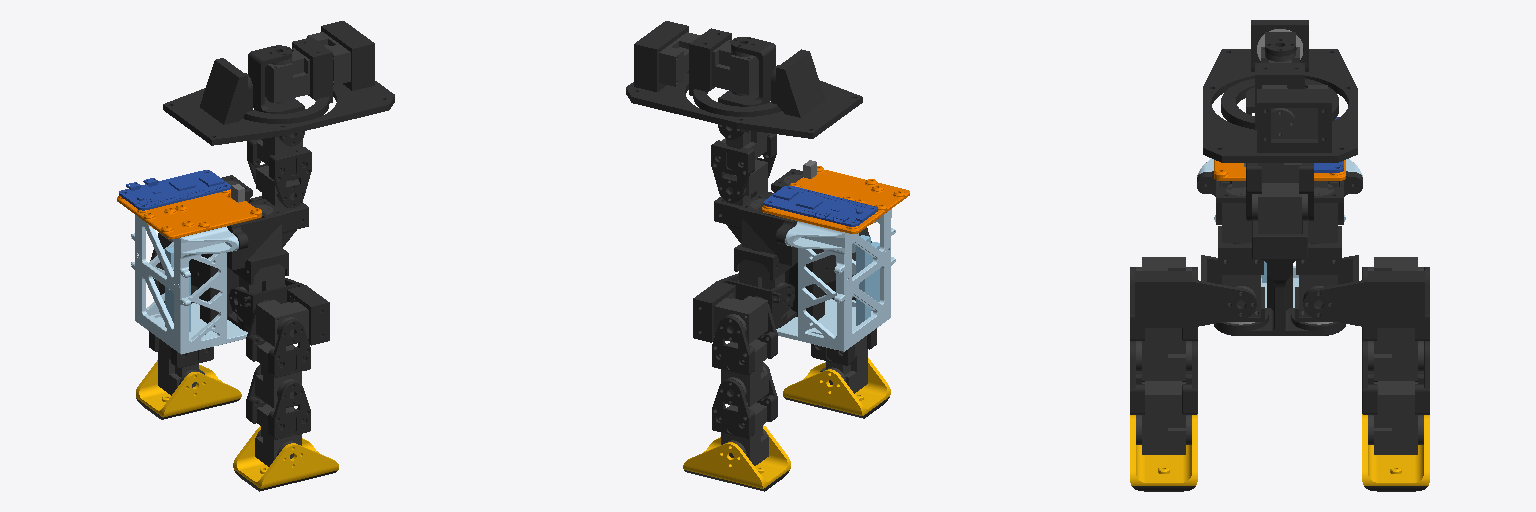
--- What the picture shows (computed from the rendered views, not written in the file) ---
3 views of the same robot in one strip: view 1: azimuth 30°, elevation 25°; view 2: azimuth 150°, elevation 25°; view 3: azimuth 270°, elevation 25° (orthographic).
Model microduck with 18 links and 17 joints (14 revolute, 3 fixed), rooted at trunk_base, posed all joints at 0.
Visible links, largest first — view 1: trunk_base, head_base_plate, head_yaw_to_roll, right_roll_to_pitch, xl330_2, xl330_3, foot_tpu_bottom, foot, leg_plate_3, head_pitch_to_yaw, leg_plate_2, xl330; view 2: trunk_base, head_base_plate, head_yaw_to_roll, left_roll_to_pitch, leg_plate, leg_plate_2, foot, foot_tpu_bottom, leg_plate_3, head_pitch_to_yaw, xl330_3, roll_motor_bottom; view 3: head_base_plate, trunk_base, left_roll_to_pitch, right_roll_to_pitch, leg_plate_2, xl330_3, leg_plate, xl330_2, foot, foot_tpu_bottom, head_yaw_to_roll, roll_motor_bottom (+3 smaller).
Boxes of the visible links, <box> form: trunk_base: <box>117,166,308,354</box>; head_base_plate: <box>163,21,394,145</box>; head_yaw_to_roll: <box>242,37,332,123</box>; right_roll_to_pitch: <box>229,278,329,346</box>; xl330_2: <box>246,300,310,408</box>; xl330_3: <box>246,364,310,466</box>; foot_tpu_bottom: <box>136,360,241,419</box>; foot: <box>233,426,338,491</box>; leg_plate_3: <box>247,110,311,207</box>; head_pitch_to_yaw: <box>248,45,304,146</box>; leg_plate_2: <box>149,331,213,395</box>; xl330: <box>232,248,288,310</box>; trunk_base: <box>714,159,909,351</box>; head_base_plate: <box>626,21,862,138</box>; head_yaw_to_roll: <box>689,28,781,116</box>; left_roll_to_pitch: <box>693,273,794,344</box>; leg_plate: <box>712,296,777,406</box>; leg_plate_2: <box>712,362,777,465</box>; foot: <box>783,358,890,418</box>; foot_tpu_bottom: <box>683,425,790,491</box>; leg_plate_3: <box>711,127,776,202</box>; head_pitch_to_yaw: <box>718,37,775,139</box>; xl330_3: <box>811,328,876,393</box>; roll_motor_bottom: <box>734,243,792,306</box>; head_base_plate: <box>1203,20,1357,162</box>; trunk_base: <box>1197,117,1362,335</box>; left_roll_to_pitch: <box>1303,255,1424,327</box>; right_roll_to_pitch: <box>1135,255,1256,327</box>; leg_plate_2: <box>1362,341,1429,454</box>; xl330_3: <box>1130,341,1197,454</box>; leg_plate: <box>1362,267,1429,380</box>; xl330_2: <box>1130,267,1197,380</box>; foot: <box>1130,414,1197,491</box>; foot_tpu_bottom: <box>1362,414,1429,491</box>; head_yaw_to_roll: <box>1221,47,1338,129</box>; roll_motor_bottom: <box>1295,226,1341,321</box>.
Size in the robot's own frame: 0.1621 by 0.1548 by 0.2565 metres.
Meshes: 26 distinct files referenced, 47 mesh visuals loaded (19 binary STL); not drawn: 9 (reference not matched to a file when rendering).

robot.urdf — microduck:
<?xml version="1.0" ?>
<!-- Generated using onshape-to-robot -->
<!-- Onshape https://cad.onshape.com/documents/804927696f06d877f3f1803e/w/3df6f6a8dcea50fb5658e3c0/e/eee1ab796d84f4ff324d3a02 -->
<robot name="microduck">
  <!-- Link trunk_base -->
  <link name="trunk_base">
    <inertial>
      <origin xyz="-0.010876 -0.000476206 0.0189092" rpy="0 0 0"/>
      <mass value="0.307054"/>
      <inertia ixx="0.000306438" ixy="-1.68276e-06" ixz="-1.79498e-05" iyy="0.000406337" iyz="-1.57212e-07" izz="0.000265753"/>
    </inertial>
    <!-- Part ubec_8v_5v_dc_dc -->
    <visual>
      <origin xyz="-0.0418856 -0.0130219 0.00180235" rpy="-4.44089e-16 -1.5708 0"/>
      <geometry>
        <mesh filename="package://assets/ubec_8v_5v_dc_dc.stl"/>
      </geometry>
      <material name="ubec_8v_5v_dc_dc_material">
        <color rgba="0.615686 0.811765 0.929412 1"/>
      </material>
    </visual>
    <collision>
      <origin xyz="-0.0418856 -0.0130219 0.00180235" rpy="-4.44089e-16 -1.5708 0"/>
      <geometry>
        <mesh filename="package://assets/ubec_8v_5v_dc_dc.stl"/>
      </geometry>
    </collision>
    <!-- Part cell -->
    <visual>
      <origin xyz="-0.0263856 0.008 -0.0211976" rpy="5.44703e-16 2.34088e-16 -8.88178e-16"/>
      <geometry>
        <mesh filename="package://assets/cell.stl"/>
      </geometry>
      <material name="cell_material">
        <color rgba="0.615686 0.811765 0.929412 1"/>
      </material>
    </visual>
    <collision>
      <origin xyz="-0.0263856 0.008 -0.0211976" rpy="5.44703e-16 2.34088e-16 -8.88178e-16"/>
      <geometry>
        <mesh filename="package://assets/cell.stl"/>
      </geometry>
    </collision>
    <!-- Part xl330 -->
    <visual>
      <origin xyz="0.0125644 -0.02 0.0368" rpy="-3.14159 -1.5708 0"/>
      <geometry>
        <mesh filename="package://assets/xl330.stl"/>
      </geometry>
      <material name="xl330_material">
        <color rgba="0.286275 0.286275 0.286275 1"/>
      </material>
    </visual>
    <collision>
      <origin xyz="0.0125644 -0.02 0.0368" rpy="-3.14159 -1.5708 0"/>
      <geometry>
        <mesh filename="package://assets/xl330.stl"/>
      </geometry>
    </collision>
    <!-- Part bms -->
    <visual>
      <origin xyz="-0.0388856 0.0610972 -0.0168297" rpy="-4.44089e-16 -1.5708 0"/>
      <geometry>
        <mesh filename="package://assets/bms.stl"/>
      </geometry>
      <material name="bms_material">
        <color rgba="0.231373 0.380392 0.705882 1"/>
      </material>
    </visual>
    <collision>
      <origin xyz="-0.0388856 0.0610972 -0.0168297" rpy="-4.44089e-16 -1.5708 0"/>
      <geometry>
        <mesh filename="package://assets/bms.stl"/>
      </geometry>
    </collision>
    <!-- Part usb_c_charger -->
    <visual>
      <origin xyz="-0.0288856 0.0185 -0.00945" rpy="-1.5708 1.5708 0"/>
      <geometry>
        <mesh filename="package://assets/usb_c_charger.stl"/>
      </geometry>
      <material name="usb_c_charger_material">
        <color rgba="0.615686 0.811765 0.929412 1"/>
      </material>
    </visual>
    <collision>
      <origin xyz="-0.0288856 0.0185 -0.00945" rpy="-1.5708 1.5708 0"/>
      <geometry>
        <mesh filename="package://assets/usb_c_charger.stl"/>
      </geometry>
    </collision>
    <!-- Part bearing -->
    <visual>
      <origin xyz="0.0125644 -0.04 0.0367" rpy="0 -0 4.15816e-112"/>
      <geometry>
        <mesh filename="package://assets/bearing.stl"/>
      </geometry>
      <material name="bearing_material">
        <color rgba="0.701961 0.701961 0.701961 1"/>
      </material>
    </visual>
    <collision>
      <origin xyz="0.0125644 -0.04 0.0367" rpy="0 -0 4.15816e-112"/>
      <geometry>
        <mesh filename="package://assets/bearing.stl"/>
      </geometry>
    </collision>
    <!-- Part trunk_yaw -->
    <visual>
      <origin xyz="0.0125644 4.61201e-19 0.0367" rpy="-1.13753e-89 1.99394e-16 5.70496e-74"/>
      <geometry>
        <mesh filename="package://assets/trunk_yaw.stl"/>
      </geometry>
      <material name="trunk_yaw_material">
        <color rgba="0.235294 0.235294 0.235294 1"/>
      </material>
    </visual>
    <collision>
      <origin xyz="0.0125644 4.61201e-19 0.0367" rpy="-1.13753e-89 1.99394e-16 5.70496e-74"/>
      <geometry>
        <mesh filename="package://assets/trunk_yaw.stl"/>
      </geometry>
    </collision>
    <!-- Part jumper -->
    <visual>
      <origin xyz="0.205953 0.0299255 0.0593" rpy="4.10208e-28 -1.35419e-55 6.0762e-28"/>
      <geometry>
        <mesh filename="package://assets/jumper.stl"/>
      </geometry>
      <material name="jumper_material">
        <color rgba="0.498039 0.498039 0.498039 1"/>
      </material>
    </visual>
    <collision>
      <origin xyz="0.205953 0.0299255 0.0593" rpy="4.10208e-28 -1.35419e-55 6.0762e-28"/>
      <geometry>
        <mesh filename="package://assets/jumper.stl"/>
      </geometry>
    </collision>
    <!-- Part holder -->
    <visual>
      <origin xyz="-0.0388856 -0.0655245 0.0107439" rpy="1.92552e-26 1.5708 0"/>
      <geometry>
        <mesh filename="package://assets/holder.stl"/>
      </geometry>
      <material name="holder_material">
        <color rgba="0.647059 0.647059 0.647059 1"/>
      </material>
    </visual>
    <collision>
      <origin xyz="-0.0388856 -0.0655245 0.0107439" rpy="1.92552e-26 1.5708 0"/>
      <geometry>
        <mesh filename="package://assets/holder.stl"/>
      </geometry>
    </collision>
    <!-- Part bno055 -->
    <visual>
      <origin xyz="-0.0486356 -0.0135 0.0607" rpy="-3.14159 2.80964e-17 3.14159"/>
      <geometry>
        <mesh filename="package://assets/bno055.stl"/>
      </geometry>
      <material name="bno055_material">
        <color rgba="0.615686 0.811765 0.929412 1"/>
      </material>
    </visual>
    <collision>
      <origin xyz="-0.0486356 -0.0135 0.0607" rpy="-3.14159 2.80964e-17 3.14159"/>
      <geometry>
        <mesh filename="package://assets/bno055.stl"/>
      </geometry>
    </collision>
    <!-- Part xl330_2 -->
    <visual>
      <origin xyz="0.0125644 0.02 0.0368" rpy="3.14159 -1.5708 0"/>
      <geometry>
        <mesh filename="package://assets/xl330.stl"/>
      </geometry>
      <material name="xl330_2_material">
        <color rgba="0.286275 0.286275 0.286275 1"/>
      </material>
    </visual>
    <collision>
      <origin xyz="0.0125644 0.02 0.0368" rpy="3.14159 -1.5708 0"/>
      <geometry>
        <mesh filename="package://assets/xl330.stl"/>
      </geometry>
    </collision>
    <!-- Part xl330_3 -->
    <visual>
      <origin xyz="0.0375644 0.0001 0.0537" rpy="1.21169e-27 -5.02818e-16 1.5708"/>
      <geometry>
        <mesh filename="package://assets/xl330.stl"/>
      </geometry>
      <material name="xl330_3_material">
        <color rgba="0.286275 0.286275 0.286275 1"/>
      </material>
    </visual>
    <collision>
      <origin xyz="0.0375644 0.0001 0.0537" rpy="1.21169e-27 -5.02818e-16 1.5708"/>
      <geometry>
        <mesh filename="package://assets/xl330.stl"/>
      </geometry>
    </collision>
    <!-- Part raspberrypizerow -->
    <visual>
      <origin xyz="-0.0261106 0.017975 0.0577" rpy="1.5708 -3.46945e-17 3.14159"/>
      <geometry>
        <mesh filename="package://assets/raspberrypizerow.stl"/>
      </geometry>
      <material name="raspberrypizerow_material">
        <color rgba="0.231373 0.380392 0.705882 1"/>
      </material>
    </visual>
    <collision>
      <origin xyz="-0.0261106 0.017975 0.0577" rpy="1.5708 -3.46945e-17 3.14159"/>
      <geometry>
        <mesh filename="package://assets/raspberrypizerow.stl"/>
      </geometry>
    </collision>
    <!-- Part bearing_2 -->
    <visual>
      <origin xyz="0.0125644 -1.56125e-17 0.0367" rpy="0 -0 4.15816e-112"/>
      <geometry>
        <mesh filename="package://assets/bearing.stl"/>
      </geometry>
      <material name="bearing_2_material">
        <color rgba="0.701961 0.701961 0.701961 1"/>
      </material>
    </visual>
    <collision>
      <origin xyz="0.0125644 -1.56125e-17 0.0367" rpy="0 -0 4.15816e-112"/>
      <geometry>
        <mesh filename="package://assets/bearing.stl"/>
      </geometry>
    </collision>
    <!-- Part board -->
    <visual>
      <origin xyz="-0.0356476 -0.033 0.0593" rpy="0 -0 -4.61649e-128"/>
      <geometry>
        <mesh filename="package://assets/board.stl"/>
      </geometry>
      <material name="board_material">
        <color rgba="0 0.501961 0 1"/>
      </material>
    </visual>
    <collision>
      <origin xyz="-0.0356476 -0.033 0.0593" rpy="0 -0 -4.61649e-128"/>
      <geometry>
        <mesh filename="package://assets/board.stl"/>
      </geometry>
    </collision>
    <!-- Part uc_boards -->
    <visual>
      <origin xyz="0.0125644 -4.31763e-18 0.0367" rpy="-7.63775e-17 1.52081e-17 -5.55112e-17"/>
      <geometry>
        <mesh filename="package://assets/uc_boards.stl"/>
      </geometry>
      <material name="uc_boards_material">
        <color rgba="0.972549 0.529412 0.00392157 1"/>
      </material>
    </visual>
    <collision>
      <origin xyz="0.0125644 -4.31763e-18 0.0367" rpy="-7.63775e-17 1.52081e-17 -5.55112e-17"/>
      <geometry>
        <mesh filename="package://assets/uc_boards.stl"/>
      </geometry>
    </collision>
    <!-- Part trunk_base -->
    <visual>
      <origin xyz="0.0125644 6.78041e-19 0.0367" rpy="0 1.99394e-16 -3.45852e-85"/>
      <geometry>
        <mesh filename="package://assets/trunk_base.stl"/>
      </geometry>
      <material name="trunk_base_material">
        <color rgba="0.235294 0.235294 0.235294 1"/>
      </material>
    </visual>
    <collision>
      <origin xyz="0.0125644 6.78041e-19 0.0367" rpy="0 1.99394e-16 -3.45852e-85"/>
      <geometry>
        <mesh filename="package://assets/trunk_base.stl"/>
      </geometry>
    </collision>
    <!-- Part power_switch -->
    <visual>
      <origin xyz="-0.0423556 0.0318 0.016765" rpy="1.48663e-28 -1.5708 0"/>
      <geometry>
        <mesh filename="package://assets/power_switch.stl"/>
      </geometry>
      <material name="power_switch_material">
        <color rgba="0.901961 0.901961 0.901961 1"/>
      </material>
    </visual>
    <collision>
      <origin xyz="-0.0423556 0.0318 0.016765" rpy="1.48663e-28 -1.5708 0"/>
      <geometry>
        <mesh filename="package://assets/power_switch.stl"/>
      </geometry>
    </collision>
    <!-- Part cell_2 -->
    <visual>
      <origin xyz="-0.0263856 -0.012 -0.0211976" rpy="1.5335e-15 -2.86329e-16 -8.88178e-16"/>
      <geometry>
        <mesh filename="package://assets/cell.stl"/>
      </geometry>
      <material name="cell_2_material">
        <color rgba="0.615686 0.811765 0.929412 1"/>
      </material>
    </visual>
    <collision>
      <origin xyz="-0.0263856 -0.012 -0.0211976" rpy="1.5335e-15 -2.86329e-16 -8.88178e-16"/>
      <geometry>
        <mesh filename="package://assets/cell.stl"/>
      </geometry>
    </collision>
    <!-- Part power_switch_2 -->
    <visual>
      <origin xyz="-0.0423556 -0.0318 0.016765" rpy="4.4599e-28 -1.5708 0"/>
      <geometry>
        <mesh filename="package://assets/power_switch.stl"/>
      </geometry>
      <material name="power_switch_2_material">
        <color rgba="0.901961 0.901961 0.901961 1"/>
      </material>
    </visual>
    <collision>
      <origin xyz="-0.0423556 -0.0318 0.016765" rpy="4.4599e-28 -1.5708 0"/>
      <geometry>
        <mesh filename="package://assets/power_switch.stl"/>
      </geometry>
    </collision>
    <!-- Part uc -->
    <visual>
      <origin xyz="0.0125644 1.2446e-60 0.0367" rpy="7.96546e-59 1.99394e-16 -8.12568e-60"/>
      <geometry>
        <mesh filename="package://assets/uc.stl"/>
      </geometry>
      <material name="uc_material">
        <color rgba="0.768627 0.886275 0.952941 1"/>
      </material>
    </visual>
    <collision>
      <origin xyz="0.0125644 1.2446e-60 0.0367" rpy="7.96546e-59 1.99394e-16 -8.12568e-60"/>
      <geometry>
        <mesh filename="package://assets/uc.stl"/>
      </geometry>
    </collision>
  </link>
  <!-- Frame imu (dummy link + fixed joint) -->
  <link name="imu">
    <origin xyz="0 0 0" rpy="0 -0 0"/>
    <inertial>
      <origin xyz="0 0 0" rpy="0 0 0"/>
      <mass value="1e-9"/>
      <inertia ixx="0" ixy="0" ixz="0" iyy="0" iyz="0" izz="0"/>
    </inertial>
  </link>
  <joint name="imu_frame" type="fixed">
    <origin xyz="-0.0488583 -0.0135 0.0607" rpy="-1.16509e-17 -2.80964e-17 -1.66533e-16"/>
    <parent link="trunk_base"/>
    <child link="imu"/>
    <axis xyz="0 0 0"/>
  </joint>
  <!-- Link roll_motor_bottom -->
  <link name="roll_motor_bottom">
    <inertial>
      <origin xyz="1.62605e-18 -0.000237525 0.0207938" rpy="0 0 0"/>
      <mass value="0.0252944"/>
      <inertia ixx="5.67885e-06" ixy="2.32015e-21" ixz="-1.19687e-21" iyy="5.1295e-06" iyz="-2.1555e-08" izz="2.4759e-06"/>
    </inertial>
    <!-- Part roll_motor_bottom -->
    <visual>
      <origin xyz="0.02 -5e-05 -0.0146" rpy="-3.14159 5.55001e-15 -1.5708"/>
      <geometry>
        <mesh filename="package://assets/roll_motor_bottom.stl"/>
      </geometry>
      <material name="roll_motor_bottom_material">
        <color rgba="0.235294 0.235294 0.235294 1"/>
      </material>
    </visual>
    <collision>
      <origin xyz="0.02 -5e-05 -0.0146" rpy="-3.14159 5.55001e-15 -1.5708"/>
      <geometry>
        <mesh filename="package://assets/roll_motor_bottom.stl"/>
      </geometry>
    </collision>
    <!-- Part roll_motor_top -->
    <visual>
      <origin xyz="0.02 3.46945e-18 -0.0146" rpy="-3.14159 5.36931e-15 -1.5708"/>
      <geometry>
        <mesh filename="package://assets/roll_motor_top.stl"/>
      </geometry>
      <material name="roll_motor_top_material">
        <color rgba="0.235294 0.235294 0.235294 1"/>
      </material>
    </visual>
    <collision>
      <origin xyz="0.02 3.46945e-18 -0.0146" rpy="-3.14159 5.36931e-15 -1.5708"/>
      <geometry>
        <mesh filename="package://assets/roll_motor_top.stl"/>
      </geometry>
    </collision>
    <!-- Part xl330_4 -->
    <visual>
      <origin xyz="1.04083e-17 -5e-05 0.0286" rpy="-4.75925e-17 -5.55001e-15 1.5708"/>
      <geometry>
        <mesh filename="package://assets/xl330.stl"/>
      </geometry>
      <material name="xl330_4_material">
        <color rgba="0.286275 0.286275 0.286275 1"/>
      </material>
    </visual>
    <collision>
      <origin xyz="1.04083e-17 -5e-05 0.0286" rpy="-4.75925e-17 -5.55001e-15 1.5708"/>
      <geometry>
        <mesh filename="package://assets/xl330.stl"/>
      </geometry>
    </collision>
  </link>
  <!-- Link left_roll_to_pitch -->
  <link name="left_roll_to_pitch">
    <inertial>
      <origin xyz="0.034947 0.00019824 -0.0134625" rpy="0 0 0"/>
      <mass value="0.0304845"/>
      <inertia ixx="5.39431e-06" ixy="9.64608e-08" ixz="-4.86513e-08" iyy="9.58888e-06" iyz="2.08504e-08" izz="6.71172e-06"/>
    </inertial>
    <!-- Part left_roll_to_pitch -->
    <visual>
      <origin xyz="-0.02 0.0432 -0.0145" rpy="-1.5708 -1.5708 0"/>
      <geometry>
        <mesh filename="package://assets/left_roll_to_pitch.stl"/>
      </geometry>
      <material name="left_roll_to_pitch_material">
        <color rgba="0.235294 0.235294 0.235294 1"/>
      </material>
    </visual>
    <collision>
      <origin xyz="-0.02 0.0432 -0.0145" rpy="-1.5708 -1.5708 0"/>
      <geometry>
        <mesh filename="package://assets/left_roll_to_pitch.stl"/>
      </geometry>
    </collision>
    <!-- Part xl330_5 -->
    <visual>
      <origin xyz="0.0399 5.9848e-17 -0.0245" rpy="-3.14159 2.05391e-15 -3.14159"/>
      <geometry>
        <mesh filename="package://assets/xl330.stl"/>
      </geometry>
      <material name="xl330_5_material">
        <color rgba="0.286275 0.286275 0.286275 1"/>
      </material>
    </visual>
    <collision>
      <origin xyz="0.0399 5.9848e-17 -0.0245" rpy="-3.14159 2.05391e-15 -3.14159"/>
      <geometry>
        <mesh filename="package://assets/xl330.stl"/>
      </geometry>
    </collision>
  </link>
  <!-- Link leg_plate -->
  <link name="leg_plate">
    <inertial>
      <origin xyz="-0.0295379 1.19013e-17 -0.0142534" rpy="0 0 0"/>
      <mass value="0.0249189"/>
      <inertia ixx="3.47009e-06" ixy="-5.59182e-21" ixz="2.12715e-08" iyy="6.80444e-06" iyz="-1.3183e-13" izz="5.2994e-06"/>
    </inertial>
    <!-- Part leg_plate -->
    <visual>
      <origin xyz="0.0432 -0.01 0.0455" rpy="-1.5708 6.38378e-15 -1.5708"/>
      <geometry>
        <mesh filename="package://assets/leg_plate.stl"/>
      </geometry>
      <material name="leg_plate_material">
        <color rgba="0.235294 0.235294 0.235294 1"/>
      </material>
    </visual>
    <collision>
      <origin xyz="0.0432 -0.01 0.0455" rpy="-1.5708 6.38378e-15 -1.5708"/>
      <geometry>
        <mesh filename="package://assets/leg_plate.stl"/>
      </geometry>
    </collision>
    <!-- Part leg_plate_2 -->
    <visual>
      <origin xyz="0.0432 0.01 -0.0745" rpy="1.5708 -2.05391e-15 1.5708"/>
      <geometry>
        <mesh filename="package://assets/leg_plate.stl"/>
      </geometry>
      <material name="leg_plate_2_material">
        <color rgba="0.235294 0.235294 0.235294 1"/>
      </material>
    </visual>
    <collision>
      <origin xyz="0.0432 0.01 -0.0745" rpy="1.5708 -2.05391e-15 1.5708"/>
      <geometry>
        <mesh filename="package://assets/leg_plate.stl"/>
      </geometry>
    </collision>
    <!-- Part xl330_6 -->
    <visual>
      <origin xyz="-0.042 -1.38778e-17 -0.0145" rpy="3.14159 1.5708 0"/>
      <geometry>
        <mesh filename="package://assets/xl330.stl"/>
      </geometry>
      <material name="xl330_6_material">
        <color rgba="0.286275 0.286275 0.286275 1"/>
      </material>
    </visual>
    <collision>
      <origin xyz="-0.042 -1.38778e-17 -0.0145" rpy="3.14159 1.5708 0"/>
      <geometry>
        <mesh filename="package://assets/xl330.stl"/>
      </geometry>
    </collision>
  </link>
  <!-- Link leg_plate_2 -->
  <link name="leg_plate_2">
    <inertial>
      <origin xyz="2.12723e-17 -0.0295379 -0.0142534" rpy="0 0 0"/>
      <mass value="0.0249189"/>
      <inertia ixx="6.80444e-06" ixy="-6.48399e-22" ixz="1.3183e-13" iyy="3.47009e-06" iyz="2.12715e-08" izz="5.2994e-06"/>
    </inertial>
    <!-- Part leg_plate_3 -->
    <visual>
      <origin xyz="-0.01 0.0432 -0.0745" rpy="1.5708 3.94299e-16 3.14159"/>
      <geometry>
        <mesh filename="package://assets/leg_plate.stl"/>
      </geometry>
      <material name="leg_plate_3_material">
        <color rgba="0.235294 0.235294 0.235294 1"/>
      </material>
    </visual>
    <collision>
      <origin xyz="-0.01 0.0432 -0.0745" rpy="1.5708 3.94299e-16 3.14159"/>
      <geometry>
        <mesh filename="package://assets/leg_plate.stl"/>
      </geometry>
    </collision>
    <!-- Part leg_plate_4 -->
    <visual>
      <origin xyz="0.01 0.0432 0.0455" rpy="-1.5708 1.40981e-15 -2.01228e-16"/>
      <geometry>
        <mesh filename="package://assets/leg_plate.stl"/>
      </geometry>
      <material name="leg_plate_4_material">
        <color rgba="0.235294 0.235294 0.235294 1"/>
      </material>
    </visual>
    <collision>
      <origin xyz="0.01 0.0432 0.0455" rpy="-1.5708 1.40981e-15 -2.01228e-16"/>
      <geometry>
        <mesh filename="package://assets/leg_plate.stl"/>
      </geometry>
    </collision>
    <!-- Part xl330_7 -->
    <visual>
      <origin xyz="2.51535e-17 -0.042 -0.0145" rpy="1.5708 1.5708 0"/>
      <geometry>
        <mesh filename="package://assets/xl330.stl"/>
      </geometry>
      <material name="xl330_7_material">
        <color rgba="0.286275 0.286275 0.286275 1"/>
      </material>
    </visual>
    <collision>
      <origin xyz="2.51535e-17 -0.042 -0.0145" rpy="1.5708 1.5708 0"/>
      <geometry>
        <mesh filename="package://assets/xl330.stl"/>
      </geometry>
    </collision>
  </link>
  <!-- Link foot_tpu_bottom -->
  <link name="foot_tpu_bottom">
    <inertial>
      <origin xyz="0.00475212 0.0143399 -0.0145" rpy="0 0 0"/>
      <mass value="0.0190505"/>
      <inertia ixx="3.25184e-06" ixy="-9.55165e-08" ixz="-2.23326e-11" iyy="6.82459e-06" iyz="-8.15886e-12" izz="4.90623e-06"/>
    </inertial>
    <!-- Part foot -->
    <visual>
      <origin xyz="0.01 -0.1272 -0.0745" rpy="1.5708 1.47525e-31 0"/>
      <geometry>
        <mesh filename="package://assets/foot.stl"/>
      </geometry>
      <material name="foot_material">
        <color rgba="1 0.756863 0.054902 1"/>
      </material>
    </visual>
    <collision>
      <origin xyz="0.01 -0.1272 -0.0745" rpy="1.5708 1.47525e-31 0"/>
      <geometry>
        <mesh filename="package://assets/foot.stl"/>
      </geometry>
    </collision>
    <!-- Part foot_tpu_bottom -->
    <visual>
      <origin xyz="0.01 -0.1272 -0.0745" rpy="1.5708 -2.77556e-17 5.31692e-28"/>
      <geometry>
        <mesh filename="package://assets/foot_tpu_bottom.stl"/>
      </geometry>
      <material name="foot_tpu_bottom_material">
        <color rgba="0.262745 0.262745 0.262745 1"/>
      </material>
    </visual>
    <collision>
      <origin xyz="0.01 -0.1272 -0.0745" rpy="1.5708 -2.77556e-17 5.31692e-28"/>
      <geometry>
        <mesh filename="package://assets/foot_tpu_bottom.stl"/>
      </geometry>
    </collision>
  </link>
  <!-- Frame left_foot (dummy link + fixed joint) -->
  <link name="left_foot">
    <origin xyz="0 0 0" rpy="0 -0 0"/>
    <inertial>
      <origin xyz="0 0 0" rpy="0 0 0"/>
      <mass value="1e-9"/>
      <inertia ixx="0" ixy="0" ixz="0" iyy="0" iyz="0" izz="0"/>
    </inertial>
  </link>
  <joint name="left_foot_frame" type="fixed">
    <origin xyz="0.0048 0.021 -0.0145" rpy="1.5708 -2.77556e-17 5.31692e-28"/>
    <parent link="foot_tpu_bottom"/>
    <child link="left_foot"/>
    <axis xyz="0 0 0"/>
  </joint>
  <!-- Joint from leg_plate_2 to foot_tpu_bottom -->
  <joint name="left_ankle" type="revolute">
    <origin xyz="2.1684e-17 -0.042 -1.38778e-17" rpy="1.17374e-16 3.59356e-16 3.14159"/>
    <parent link="leg_plate_2"/>
    <child link="foot_tpu_bottom"/>
    <axis xyz="0 0 1"/>
    <limit effort="10" velocity="10" lower="-1.5708" upper="1.5708"/>
  </joint>
  <!-- Joint from leg_plate to leg_plate_2 -->
  <joint name="left_knee" type="revolute">
    <origin xyz="-0.042 -6.46184e-17 -2.77556e-17" rpy="-1.02696e-15 2.05391e-15 -1.5708"/>
    <parent link="leg_plate"/>
    <child link="leg_plate_2"/>
    <axis xyz="0 0 1"/>
    <limit effort="10" velocity="10" lower="-1.91986" upper="-0"/>
  </joint>
  <!-- Joint from left_roll_to_pitch to leg_plate -->
  <joint name="left_hip_pitch" type="revolute">
    <origin xyz="0.0544 6.245e-17 -0.0245" rpy="1.5708 9.7947e-16 1.5708"/>
    <parent link="left_roll_to_pitch"/>
    <child link="leg_plate"/>
    <axis xyz="0 0 1"/>
    <limit effort="10" velocity="10" lower="-2.66454e-15" upper="1.5708"/>
  </joint>
  <!-- Joint from roll_motor_bottom to left_roll_to_pitch -->
  <joint name="left_hip_roll" type="revolute">
    <origin xyz="-1.04083e-17 -0.01455 0.0286" rpy="-1.5708 4.75925e-17 3.14159"/>
    <parent link="roll_motor_bottom"/>
    <child link="left_roll_to_pitch"/>
    <axis xyz="0 0 1"/>
    <limit effort="10" velocity="10" lower="-0.698132" upper="0.698132"/>
  </joint>
  <!-- Joint from trunk_base to roll_motor_bottom -->
  <joint name="left_hip_yaw" type="revolute">
    <origin xyz="0.0125644 0.02 0.0223" rpy="3.14159 -2.25318e-29 -1.5708"/>
    <parent link="trunk_base"/>
    <child link="roll_motor_bottom"/>
    <axis xyz="0 0 1"/>
    <limit effort="10" velocity="10" lower="-0.523599" upper="0.523599"/>
  </joint>
  <!-- Link leg_plate_3 -->
  <link name="leg_plate_3">
    <inertial>
      <origin xyz="-4.24283e-18 0.0295379 -0.0147466" rpy="0 0 0"/>
      <mass value="0.0249189"/>
      <inertia ixx="6.80444e-06" ixy="4.27153e-22" ixz="-1.3183e-13" iyy="3.47009e-06" iyz="2.12715e-08" izz="5.2994e-06"/>
    </inertial>
    <!-- Part leg_plate_5 -->
    <visual>
      <origin xyz="0.01 -0.0432 -0.0745" rpy="1.5708 -2.75014e-16 5.55112e-17"/>
      <geometry>
        <mesh filename="package://assets/leg_plate.stl"/>
      </geometry>
      <material name="leg_plate_5_material">
        <color rgba="0.235294 0.235294 0.235294 1"/>
      </material>
    </visual>
    <collision>
      <origin xyz="0.01 -0.0432 -0.0745" rpy="1.5708 -2.75014e-16 5.55112e-17"/>
      <geometry>
        <mesh filename="package://assets/leg_plate.stl"/>
      </geometry>
    </collision>
    <!-- Part leg_plate_6 -->
    <visual>
      <origin xyz="-0.01 -0.0432 0.0455" rpy="-1.5708 -2.75014e-16 3.14159"/>
      <geometry>
        <mesh filename="package://assets/leg_plate.stl"/>
      </geometry>
      <material name="leg_plate_6_material">
        <color rgba="0.235294 0.235294 0.235294 1"/>
      </material>
    </visual>
    <collision>
      <origin xyz="-0.01 -0.0432 0.0455" rpy="-1.5708 -2.75014e-16 3.14159"/>
      <geometry>
        <mesh filename="package://assets/leg_plate.stl"/>
      </geometry>
    </collision>
    <!-- Part xl330_8 -->
    <visual>
      <origin xyz="-6.93889e-18 0.042 -0.0145" rpy="-1.5708 -1.5708 0"/>
      <geometry>
        <mesh filename="package://assets/xl330.stl"/>
      </geometry>
      <material name="xl330_8_material">
        <color rgba="0.286275 0.286275 0.286275 1"/>
      </material>
    </visual>
    <collision>
      <origin xyz="-6.93889e-18 0.042 -0.0145" rpy="-1.5708 -1.5708 0"/>
      <geometry>
        <mesh filename="package://assets/xl330.stl"/>
      </geometry>
    </collision>
  </link>
  <!-- Link head_pitch_to_yaw -->
  <link name="head_pitch_to_yaw">
    <inertial>
      <origin xyz="0.00612022 0.0212216 -0.0145" rpy="0 0 0"/>
      <mass value="0.00847041"/>
      <inertia ixx="3.01296e-06" ixy="-4.42309e-07" ixz="-1.0103e-12" iyy="1.50757e-06" iyz="2.76775e-13" izz="2.61412e-06"/>
    </inertial>
    <!-- Part head_pitch_to_yaw -->
    <visual>
      <origin xyz="0.025 -0.06 -0.0145" rpy="1.5708 2.88058e-25 3.14159"/>
      <geometry>
        <mesh filename="package://assets/head_pitch_to_yaw.stl"/>
      </geometry>
      <material name="head_pitch_to_yaw_material">
        <color rgba="0.235294 0.235294 0.235294 1"/>
      </material>
    </visual>
    <collision>
      <origin xyz="0.025 -0.06 -0.0145" rpy="1.5708 2.88058e-25 3.14159"/>
      <geometry>
        <mesh filename="package://assets/head_pitch_to_yaw.stl"/>
      </geometry>
    </collision>
  </link>
  <!-- Link head_yaw_to_roll -->
  <link name="head_yaw_to_roll">
    <inertial>
      <origin xyz="0.00569587 -9.67341e-18 0.0184874" rpy="0 0 0"/>
      <mass value="0.0379676"/>
      <inertia ixx="7.59409e-06" ixy="-7.63712e-21" ixz="1.16448e-06" iyy="1.62671e-05" iyz="6.66667e-22" izz="1.68278e-05"/>
    </inertial>
    <!-- Part head_yaw_to_roll -->
    <visual>
      <origin xyz="-0.025 -3.10353e-18 0.1065" rpy="-3.14159 4.15385e-30 -3.88578e-16"/>
      <geometry>
        <mesh filename="package://assets/head_yaw_to_roll.stl"/>
      </geometry>
      <material name="head_yaw_to_roll_material">
        <color rgba="0.235294 0.235294 0.235294 1"/>
      </material>
    </visual>
    <collision>
      <origin xyz="-0.025 -3.10353e-18 0.1065" rpy="-3.14159 4.15385e-30 -3.88578e-16"/>
      <geometry>
        <mesh filename="package://assets/head_yaw_to_roll.stl"/>
      </geometry>
    </collision>
    <!-- Part xl330_9 -->
    <visual>
      <origin xyz="0 2.43945e-19 0.0145" rpy="3.14159 1.5708 0"/>
      <geometry>
        <mesh filename="package://assets/xl330.stl"/>
      </geometry>
      <material name="xl330_9_material">
        <color rgba="0.286275 0.286275 0.286275 1"/>
      </material>
    </visual>
    <collision>
      <origin xyz="0 2.43945e-19 0.0145" rpy="3.14159 1.5708 0"/>
      <geometry>
        <mesh filename="package://assets/xl330.stl"/>
      </geometry>
    </collision>
  </link>
  <!-- Link head_base_plate -->
  <link name="head_base_plate">
    <inertial>
      <origin xyz="0.00266528 -0.00786002 -0.0193897" rpy="0 0 0"/>
      <mass value="0.0728463"/>
      <inertia ixx="0.000144141" ixy="-1.31809e-06" ixz="-7.23983e-06" iyy="0.000159883" iyz="-4.80384e-06" izz="3.02801e-05"/>
    </inertial>
    <!-- Part xl330_10 -->
    <visual>
      <origin xyz="-3.00053e-17 -1.11022e-16 0.0145" rpy="-3.14159 1.5708 0"/>
      <geometry>
        <mesh filename="package://assets/xl330.stl"/>
      </geometry>
      <material name="xl330_10_material">
        <color rgba="0.286275 0.286275 0.286275 1"/>
      </material>
    </visual>
    <collision>
      <origin xyz="-3.00053e-17 -1.11022e-16 0.0145" rpy="-3.14159 1.5708 0"/>
      <geometry>
        <mesh filename="package://assets/xl330.stl"/>
      </geometry>
    </collision>
    <!-- Part bearing_3 -->
    <visual>
      <origin xyz="-0.02 -1.22125e-15 -0.1215" rpy="-3.14159 2.31296e-16 1.5708"/>
      <geometry>
        <mesh filename="package://assets/bearing.stl"/>
      </geometry>
      <material name="bearing_3_material">
        <color rgba="0.701961 0.701961 0.701961 1"/>
      </material>
    </visual>
    <collision>
      <origin xyz="-0.02 -1.22125e-15 -0.1215" rpy="-3.14159 2.31296e-16 1.5708"/>
      <geometry>
        <mesh filename="package://assets/bearing.stl"/>
      </geometry>
    </collision>
    <!-- Part head_base_plate -->
    <visual>
      <origin xyz="2.2522e-15 -0.092 -0.0556" rpy="-1.5708 -1.5708 0"/>
      <geometry>
        <mesh filename="package://assets/head_base_plate.stl"/>
      </geometry>
      <material name="head_base_plate_material">
        <color rgba="0.235294 0.235294 0.235294 1"/>
      </material>
    </visual>
    <collision>
      <origin xyz="2.2522e-15 -0.092 -0.0556" rpy="-1.5708 -1.5708 0"/>
      <geometry>
        <mesh filename="package://assets/head_base_plate.stl"/>
      </geometry>
    </collision>
  </link>
  <!-- Joint from head_yaw_to_roll to head_base_plate -->
  <joint name="head_roll" type="revolute">
    <origin xyz="0.0305 -2.46656e-17 0.0145" rpy="-1.5708 1.79466e-29 -1.5708"/>
    <parent link="head_yaw_to_roll"/>
    <child link="head_base_plate"/>
    <axis xyz="0 0 1"/>
    <limit effort="10" velocity="10" lower="-0.523599" upper="0.523599"/>
  </joint>
  <!-- Joint from head_pitch_to_yaw to head_yaw_to_roll -->
  <joint name="head_yaw" type="revolute">
    <origin xyz="0 0.0465 -0.0145" rpy="-1.5708 2.88058e-25 3.14159"/>
    <parent link="head_pitch_to_yaw"/>
    <child link="head_yaw_to_roll"/>
    <axis xyz="0 0 1"/>
    <limit effort="10" velocity="10" lower="-2.61799" upper="2.61799"/>
  </joint>
  <!-- Joint from leg_plate_3 to head_pitch_to_yaw -->
  <joint name="head_pitch" type="revolute">
    <origin xyz="-6.93889e-18 0.042 -1.38778e-17" rpy="5.02818e-16 2.87763e-25 -1.21169e-27"/>
    <parent link="leg_plate_3"/>
    <child link="head_pitch_to_yaw"/>
    <axis xyz="0 0 1"/>
    <limit effort="10" velocity="10" lower="-1.22173" upper="1.22173"/>
  </joint>
  <!-- Joint from trunk_base to leg_plate_3 -->
  <joint name="neck_pitch" type="revolute">
    <origin xyz="0.0375644 0.0146 0.0537" rpy="1.5708 -1.21169e-27 -3.14159"/>
    <parent link="trunk_base"/>
    <child link="leg_plate_3"/>
    <axis xyz="0 0 1"/>
    <limit effort="10" velocity="10" lower="-1.22173" upper="1.22173"/>
  </joint>
  <!-- Link xl330 -->
  <link name="xl330">
    <inertial>
      <origin xyz="0.000237525 5.91763e-18 0.0207938" rpy="0 0 0"/>
      <mass value="0.0252944"/>
      <inertia ixx="5.1295e-06" ixy="-1.02183e-20" ixz="2.1555e-08" iyy="5.67885e-06" iyz="-6.12146e-21" izz="2.4759e-06"/>
    </inertial>
    <!-- Part roll_motor_top_2 -->
    <visual>
      <origin xyz="0 0.02 -0.0146" rpy="3.14159 1.06934e-30 5.91646e-31"/>
      <geometry>
        <mesh filename="package://assets/roll_motor_top.stl"/>
      </geometry>
      <material name="roll_motor_top_2_material">
        <color rgba="0.235294 0.235294 0.235294 1"/>
      </material>
    </visual>
    <collision>
      <origin xyz="0 0.02 -0.0146" rpy="3.14159 1.06934e-30 5.91646e-31"/>
      <geometry>
        <mesh filename="package://assets/roll_motor_top.stl"/>
      </geometry>
    </collision>
    <!-- Part roll_motor_bottom_2 -->
    <visual>
      <origin xyz="5e-05 0.02 -0.0146" rpy="3.14159 1.807e-16 1.97215e-31"/>
      <geometry>
        <mesh filename="package://assets/roll_motor_bottom.stl"/>
      </geometry>
      <material name="roll_motor_bottom_2_material">
        <color rgba="0.235294 0.235294 0.235294 1"/>
      </material>
    </visual>
    <collision>
      <origin xyz="5e-05 0.02 -0.0146" rpy="3.14159 1.807e-16 1.97215e-31"/>
      <geometry>
        <mesh filename="package://assets/roll_motor_bottom.stl"/>
      </geometry>
    </collision>
    <!-- Part xl330_11 -->
    <visual>
      <origin xyz="5e-05 1.73472e-17 0.0286" rpy="1.60623e-16 -1.807e-16 -3.14159"/>
      <geometry>
        <mesh filename="package://assets/xl330.stl"/>
      </geometry>
      <material name="xl330_11_material">
        <color rgba="0.286275 0.286275 0.286275 1"/>
      </material>
    </visual>
    <collision>
      <origin xyz="5e-05 1.73472e-17 0.0286" rpy="1.60623e-16 -1.807e-16 -3.14159"/>
      <geometry>
        <mesh filename="package://assets/xl330.stl"/>
      </geometry>
    </collision>
  </link>
  <!-- Link right_roll_to_pitch -->
  <link name="right_roll_to_pitch">
    <inertial>
      <origin xyz="-0.034947 0.00019824 -0.0134625" rpy="0 0 0"/>
      <mass value="0.0304845"/>
      <inertia ixx="5.39431e-06" ixy="-9.64608e-08" ixz="4.86513e-08" iyy="9.58888e-06" iyz="2.08504e-08" izz="6.71172e-06"/>
    </inertial>
    <!-- Part right_roll_to_pitch -->
    <visual>
      <origin xyz="0.02 0.0432 -0.0145" rpy="-1.5708 -1.5708 0"/>
      <geometry>
        <mesh filename="package://assets/right_roll_to_pitch.stl"/>
      </geometry>
      <material name="right_roll_to_pitch_material">
        <color rgba="0.235294 0.235294 0.235294 1"/>
      </material>
    </visual>
    <collision>
      <origin xyz="0.02 0.0432 -0.0145" rpy="-1.5708 -1.5708 0"/>
      <geometry>
        <mesh filename="package://assets/right_roll_to_pitch.stl"/>
      </geometry>
    </collision>
    <!-- Part xl330_12 -->
    <visual>
      <origin xyz="-0.0399 -6.76542e-17 -0.0245" rpy="-3.14159 -1.3606e-14 -2.27956e-16"/>
      <geometry>
        <mesh filename="package://assets/xl330.stl"/>
      </geometry>
      <material name="xl330_12_material">
        <color rgba="0.286275 0.286275 0.286275 1"/>
      </material>
    </visual>
    <collision>
      <origin xyz="-0.0399 -6.76542e-17 -0.0245" rpy="-3.14159 -1.3606e-14 -2.27956e-16"/>
      <geometry>
        <mesh filename="package://assets/xl330.stl"/>
      </geometry>
    </collision>
  </link>
  <!-- Link xl330_2 -->
  <link name="xl330_2">
    <inertial>
      <origin xyz="0.0295379 -5.44861e-16 -0.0142534" rpy="0 0 0"/>
      <mass value="0.0249189"/>
      <inertia ixx="3.47009e-06" ixy="7.61961e-20" ixz="-2.12715e-08" iyy="6.80444e-06" iyz="1.3183e-13" izz="5.2994e-06"/>
    </inertial>
    <!-- Part xl330_13 -->
    <visual>
      <origin xyz="0.042 -8.07947e-16 -0.0145" rpy="2.10711e-14 1.5708 0"/>
      <geometry>
        <mesh filename="package://assets/xl330.stl"/>
      </geometry>
      <material name="xl330_13_material">
        <color rgba="0.286275 0.286275 0.286275 1"/>
      </material>
    </visual>
    <collision>
      <origin xyz="0.042 -8.07947e-16 -0.0145" rpy="2.10711e-14 1.5708 0"/>
      <geometry>
        <mesh filename="package://assets/xl330.stl"/>
      </geometry>
    </collision>
    <!-- Part leg_plate_7 -->
    <visual>
      <origin xyz="-0.0432 0.01 0.0455" rpy="-1.5708 2.48209e-15 1.5708"/>
      <geometry>
        <mesh filename="package://assets/leg_plate.stl"/>
      </geometry>
      <material name="leg_plate_7_material">
        <color rgba="0.235294 0.235294 0.235294 1"/>
      </material>
    </visual>
    <collision>
      <origin xyz="-0.0432 0.01 0.0455" rpy="-1.5708 2.48209e-15 1.5708"/>
      <geometry>
        <mesh filename="package://assets/leg_plate.stl"/>
      </geometry>
    </collision>
    <!-- Part leg_plate_8 -->
    <visual>
      <origin xyz="-0.0432 -0.01 -0.0745" rpy="1.5708 -4.2067e-17 -1.5708"/>
      <geometry>
        <mesh filename="package://assets/leg_plate.stl"/>
      </geometry>
      <material name="leg_plate_8_material">
        <color rgba="0.235294 0.235294 0.235294 1"/>
      </material>
    </visual>
    <collision>
      <origin xyz="-0.0432 -0.01 -0.0745" rpy="1.5708 -4.2067e-17 -1.5708"/>
      <geometry>
        <mesh filename="package://assets/leg_plate.stl"/>
      </geometry>
    </collision>
  </link>
  <!-- Link xl330_3 -->
  <link name="xl330_3">
    <inertial>
      <origin xyz="-6.75629e-17 -0.0295379 -0.0142534" rpy="0 0 0"/>
      <mass value="0.0249189"/>
      <inertia ixx="6.80444e-06" ixy="1.29489e-20" ixz="1.3183e-13" iyy="3.47009e-06" iyz="2.12715e-08" izz="5.2994e-06"/>
    </inertial>
    <!-- Part xl330_14 -->
    <visual>
      <origin xyz="-6.15827e-17 -0.042 -0.0145" rpy="1.5708 1.5708 0"/>
      <geometry>
        <mesh filename="package://assets/xl330.stl"/>
      </geometry>
      <material name="xl330_14_material">
        <color rgba="0.286275 0.286275 0.286275 1"/>
      </material>
    </visual>
    <collision>
      <origin xyz="-6.15827e-17 -0.042 -0.0145" rpy="1.5708 1.5708 0"/>
      <geometry>
        <mesh filename="package://assets/xl330.stl"/>
      </geometry>
    </collision>
    <!-- Part leg_plate_9 -->
    <visual>
      <origin xyz="0.01 0.0432 0.0455" rpy="-1.5708 -2.35203e-14 1.50574e-15"/>
      <geometry>
        <mesh filename="package://assets/leg_plate.stl"/>
      </geometry>
      <material name="leg_plate_9_material">
        <color rgba="0.235294 0.235294 0.235294 1"/>
      </material>
    </visual>
    <collision>
      <origin xyz="0.01 0.0432 0.0455" rpy="-1.5708 -2.35203e-14 1.50574e-15"/>
      <geometry>
        <mesh filename="package://assets/leg_plate.stl"/>
      </geometry>
    </collision>
    <!-- Part leg_plate_10 -->
    <visual>
      <origin xyz="-0.01 0.0432 -0.0745" rpy="1.5708 2.12965e-14 -3.14159"/>
      <geometry>
        <mesh filename="package://assets/leg_plate.stl"/>
      </geometry>
      <material name="leg_plate_10_material">
        <color rgba="0.235294 0.235294 0.235294 1"/>
      </material>
    </visual>
    <collision>
      <origin xyz="-0.01 0.0432 -0.0745" rpy="1.5708 2.12965e-14 -3.14159"/>
      <geometry>
        <mesh filename="package://assets/leg_plate.stl"/>
      </geometry>
    </collision>
  </link>
  <!-- Link foot -->
  <link name="foot">
    <inertial>
      <origin xyz="0.00475212 -0.0143399 -0.0145" rpy="0 0 0"/>
      <mass value="0.0190505"/>
      <inertia ixx="3.25184e-06" ixy="9.55165e-08" ixz="2.23326e-11" iyy="6.82459e-06" iyz="-8.15886e-12" izz="4.90623e-06"/>
    </inertial>
    <!-- Part foot_2 -->
    <visual>
      <origin xyz="0.01 0.1272 0.0455" rpy="-1.5708 4.38216e-31 4.93038e-31"/>
      <geometry>
        <mesh filename="package://assets/foot.stl"/>
      </geometry>
      <material name="foot_2_material">
        <color rgba="1 0.756863 0.054902 1"/>
      </material>
    </visual>
    <collision>
      <origin xyz="0.01 0.1272 0.0455" rpy="-1.5708 4.38216e-31 4.93038e-31"/>
      <geometry>
        <mesh filename="package://assets/foot.stl"/>
      </geometry>
    </collision>
    <!-- Part foot_tpu_bottom_2 -->
    <visual>
      <origin xyz="0.01 0.1272 0.0455" rpy="-1.5708 4.39506e-31 -3.46945e-18"/>
      <geometry>
        <mesh filename="package://assets/foot_tpu_bottom.stl"/>
      </geometry>
      <material name="foot_tpu_bottom_2_material">
        <color rgba="0.262745 0.262745 0.262745 1"/>
      </material>
    </visual>
    <collision>
      <origin xyz="0.01 0.1272 0.0455" rpy="-1.5708 4.39506e-31 -3.46945e-18"/>
      <geometry>
        <mesh filename="package://assets/foot_tpu_bottom.stl"/>
      </geometry>
    </collision>
  </link>
  <!-- Frame right_foot (dummy link + fixed joint) -->
  <link name="right_foot">
    <origin xyz="0 0 0" rpy="0 -0 0"/>
    <inertial>
      <origin xyz="0 0 0" rpy="0 0 0"/>
      <mass value="1e-9"/>
      <inertia ixx="0" ixy="0" ixz="0" iyy="0" iyz="0" izz="0"/>
    </inertial>
  </link>
  <joint name="right_foot_frame" type="fixed">
    <origin xyz="0.0048 -0.021 -0.0145" rpy="-1.5708 4.39506e-31 -3.46945e-18"/>
    <parent link="foot"/>
    <child link="right_foot"/>
    <axis xyz="0 0 0"/>
  </joint>
  <!-- Joint from xl330_3 to foot -->
  <joint name="right_ankle" type="revolute">
    <origin xyz="-5.11743e-17 -0.042 -1.38778e-17" rpy="-2.26102e-16 2.84176e-15 1.19002e-15"/>
    <parent link="xl330_3"/>
    <child link="foot"/>
    <axis xyz="0 0 1"/>
    <limit effort="10" velocity="10" lower="-1.5708" upper="1.5708"/>
  </joint>
  <!-- Joint from xl330_2 to xl330_3 -->
  <joint name="right_knee" type="revolute">
    <origin xyz="0.042 -8.22693e-16 -8.32667e-17" rpy="3.53884e-16 3.41914e-15 1.5708"/>
    <parent link="xl330_2"/>
    <child link="xl330_3"/>
    <axis xyz="0 0 1"/>
    <limit effort="10" velocity="10" lower="-2.13163e-14" upper="1.91986"/>
  </joint>
  <!-- Joint from right_roll_to_pitch to xl330_2 -->
  <joint name="right_hip_pitch" type="revolute">
    <origin xyz="-0.0544 -6.50521e-17 -0.0245" rpy="1.5708 1.13777e-15 -1.5708"/>
    <parent link="right_roll_to_pitch"/>
    <child link="xl330_2"/>
    <axis xyz="0 0 1"/>
    <limit effort="10" velocity="10" lower="-1.5708" upper="1.77636e-14"/>
  </joint>
  <!-- Joint from xl330 to right_roll_to_pitch -->
  <joint name="right_hip_roll" type="revolute">
    <origin xyz="0.01455 1.38778e-17 0.0286" rpy="-1.5708 -1.60623e-16 -1.5708"/>
    <parent link="xl330"/>
    <child link="right_roll_to_pitch"/>
    <axis xyz="0 0 1"/>
    <limit effort="10" velocity="10" lower="-0.698132" upper="0.698132"/>
  </joint>
  <!-- Joint from trunk_base to xl330 -->
  <joint name="right_hip_yaw" type="revolute">
    <origin xyz="0.0125644 -0.02 0.0223" rpy="-3.14159 -2.82835e-14 -1.9984e-15"/>
    <parent link="trunk_base"/>
    <child link="xl330"/>
    <axis xyz="0 0 1"/>
    <limit effort="10" velocity="10" lower="-0.349066" upper="0.349066"/>
  </joint>
</robot>
